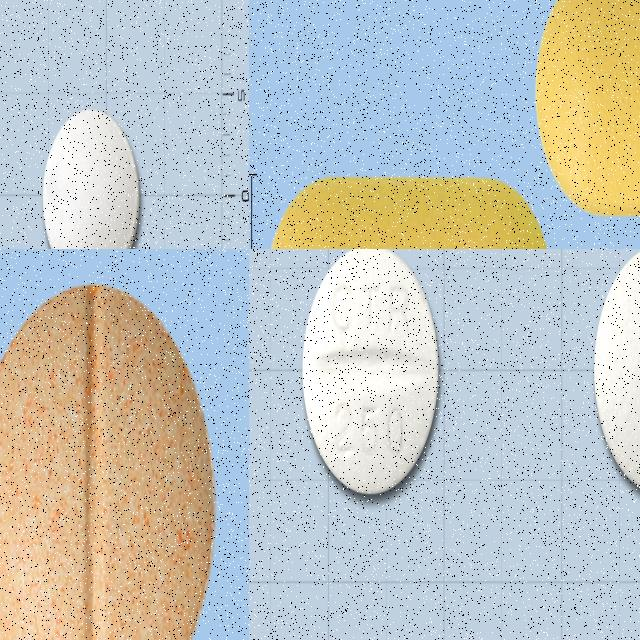Citro: (299, 249, 442, 498), (591, 249, 640, 499)
Craycin - 500mg: (534, 0, 640, 220), (263, 175, 554, 249)
Dongkoo Levofloxacin Hydrate Tab: (42, 107, 141, 249)
Doxy: (0, 283, 215, 640)
